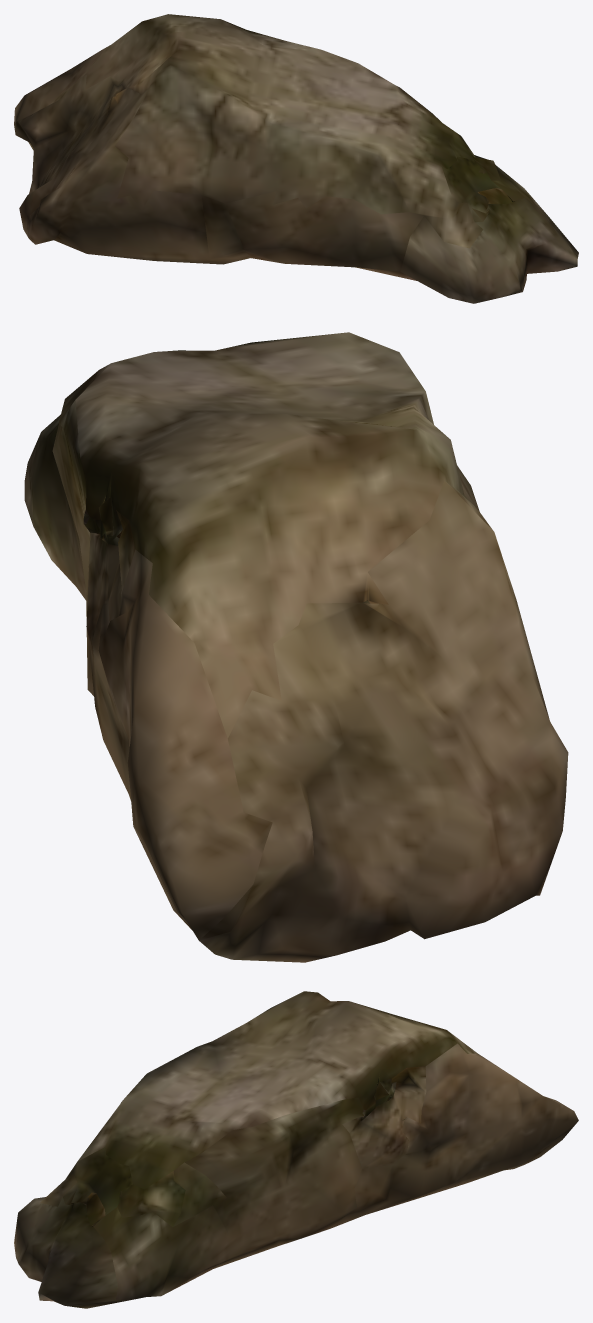
Rendered from moss_rock_2.glb.
3 renders of one model, top to bottom at view 1: azimuth 30°, elevation 25°; view 2: azimuth 150°, elevation 25°; view 3: azimuth 270°, elevation 25°, orthographic. The views are drawn at different scales.
Parts seen in each view (by area): view 1: rock_moss_set_01_rock02; view 2: rock_moss_set_01_rock02; view 3: rock_moss_set_01_rock02.
Part boxes in pixels (bbox=[...]): rock_moss_set_01_rock02: bbox=[14, 14, 578, 303]; rock_moss_set_01_rock02: bbox=[24, 332, 568, 962]; rock_moss_set_01_rock02: bbox=[14, 991, 578, 1308].
Size of the model in its own units: 2.64 by 1.26 by 3.25.
1 material, 1 textured.
